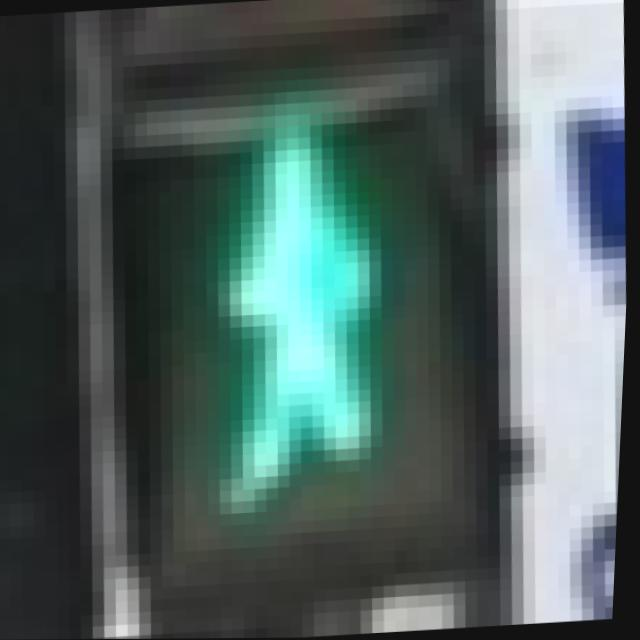green_light: (86, 71, 484, 521)
